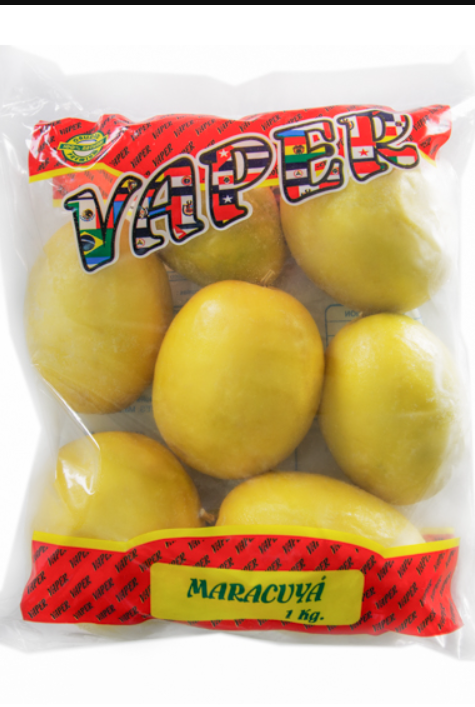maracuya: (148, 276, 332, 473), (20, 211, 174, 419), (324, 310, 469, 506)
